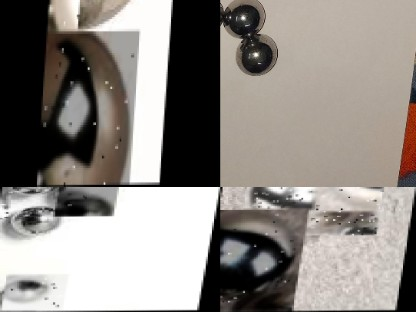ironball: (37, 31, 138, 186), (220, 209, 307, 311), (238, 187, 382, 236), (42, 0, 78, 104), (227, 33, 282, 80), (9, 203, 73, 241), (3, 274, 70, 310), (52, 187, 116, 216), (222, 0, 264, 36), (0, 187, 10, 219), (0, 187, 63, 191)
